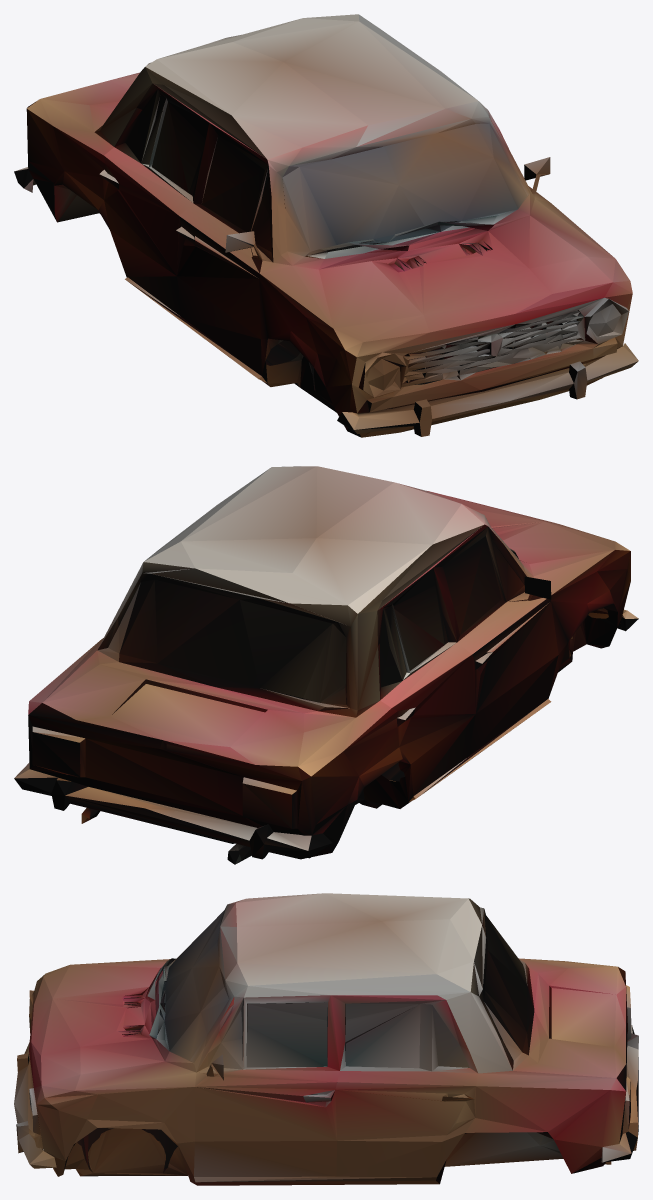
The model's file is tofas_murat_124.glb.
3 renders of one model, top to bottom at view 1: azimuth 30°, elevation 25°; view 2: azimuth 150°, elevation 25°; view 3: azimuth 270°, elevation 25°, orthographic. The views are drawn at different scales.
Visible parts, largest first — view 1: Wreck_tofas_murat_124; view 2: Wreck_tofas_murat_124; view 3: Wreck_tofas_murat_124.
Part boxes in pixels (x1=…): Wreck_tofas_murat_124: x1=14, y1=14, x2=638, y2=437; Wreck_tofas_murat_124: x1=14, y1=466, x2=638, y2=864; Wreck_tofas_murat_124: x1=14, y1=893, x2=638, y2=1185.
Bounding box in the file's own units: 2.17 × 1.5 × 4.02.
